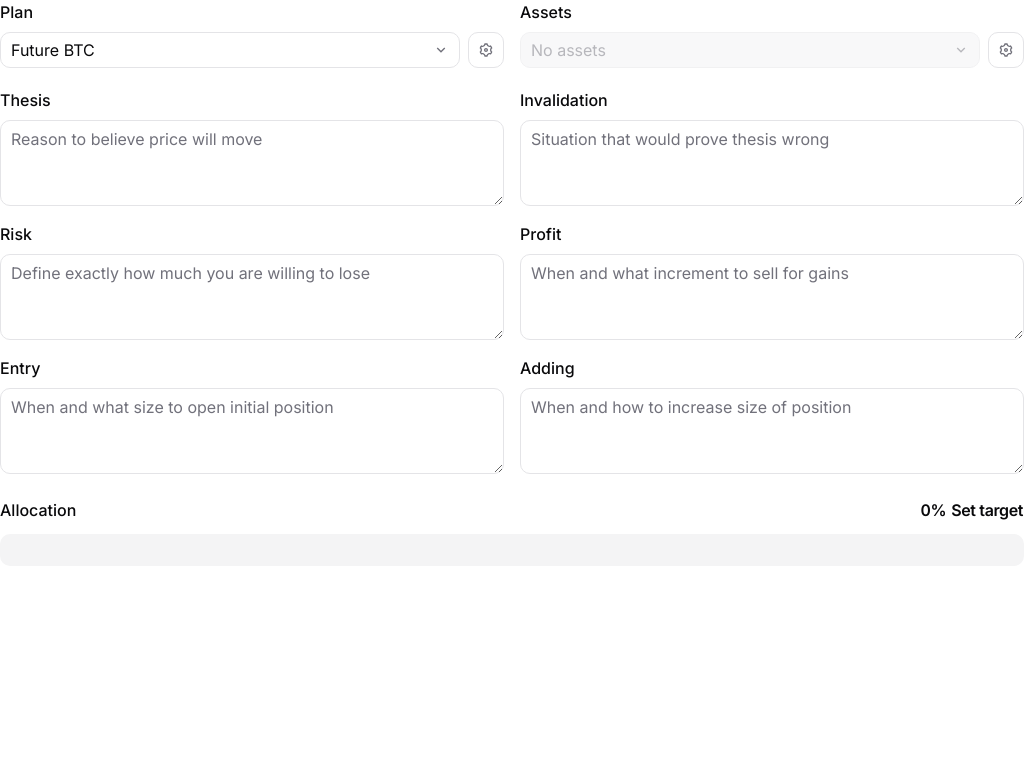
PlansEditor › the Plan switcher › keeps starting a Plan out of the list of Plans
Click the button with aria-label "Switch Plan" at (53,50), box [0,32,460,68]
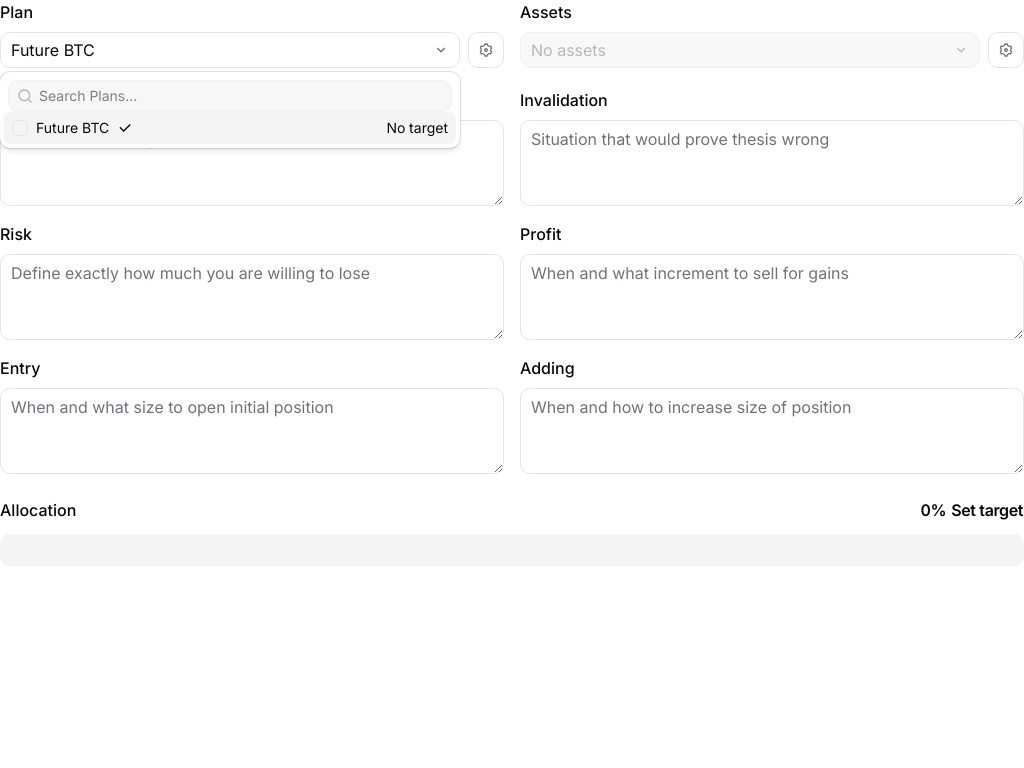
Now the dropdown with placeholder "Search Plans..." is shown, box [33,86,451,106]
